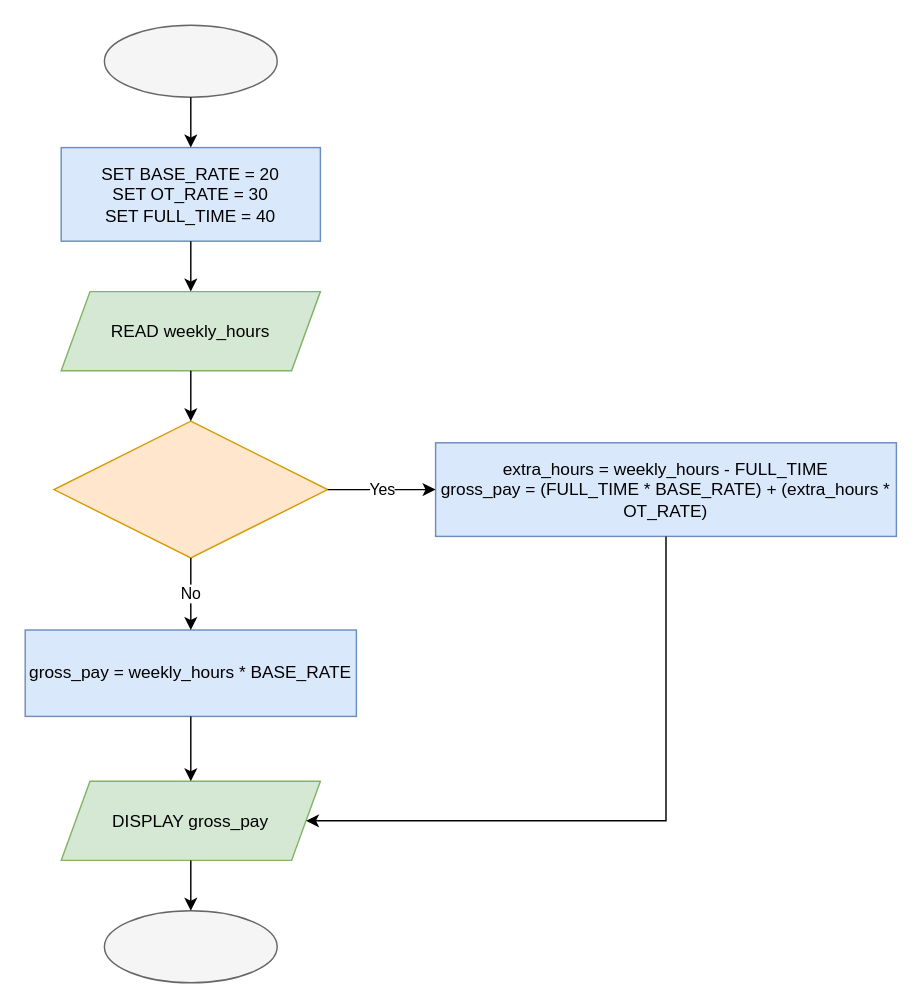
The diagram is 922 pixels wide and 1008 high, and some of its shapes have lost their labels. Here are the shapes that lost their labels. From the top down, the box of each, then its label:
(103, 24, 277, 97): START
(53, 420, 328, 558): weekly_hours > FULL_TIME?
(103, 909, 277, 983): END
